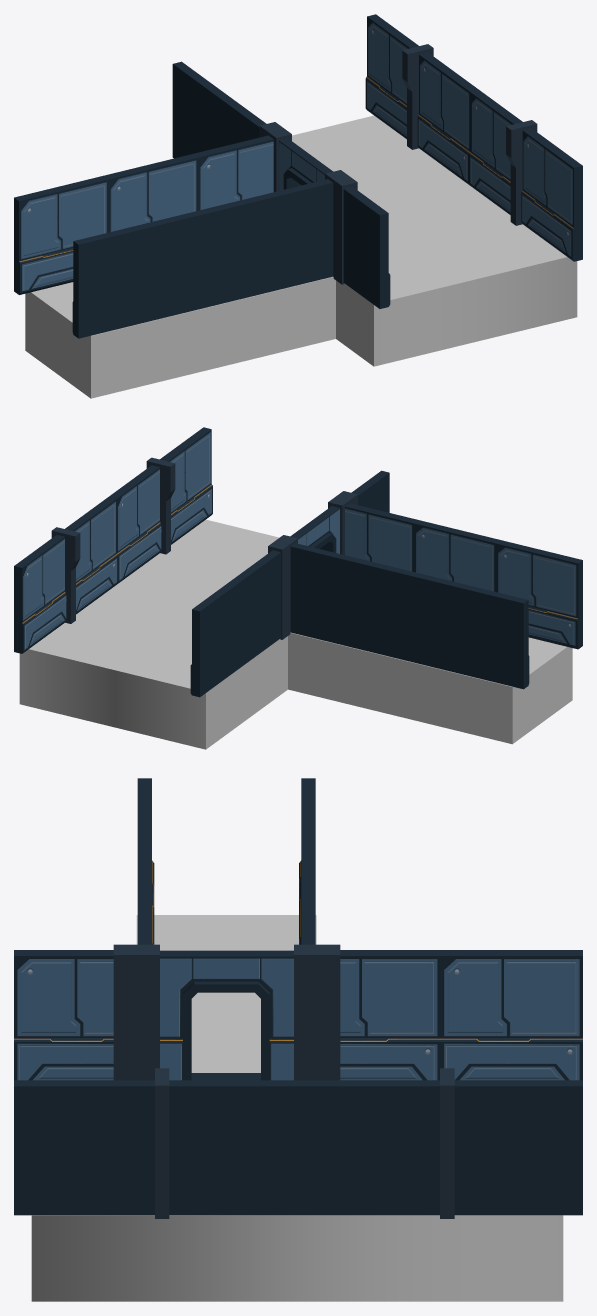
File: lorong3.dae
3 views of the same model, one above another, from view 1: azimuth 30°, elevation 25°; view 2: azimuth 150°, elevation 25°; view 3: azimuth 270°, elevation 25° (orthographic). The views are drawn at different scales.
Parts seen in each view (by area): view 1: Cube.199, Cube.014, Cube.028, Cube.013, Cube.037, Cube.038, Cube.189, Cube.012, Cube.107, Cube.108; view 2: Cube.199, Cube.013, Cube.028, Cube.014, Cube.037, Cube.189, Cube.012, Cube.108, Cube.038, Cube.107; view 3: Cube.028, Cube.199, Cube.037, Cube.038, Cube.012, Cube.108, Cube.107, Cube.189, Cube.014, Cube.013.
Boxes of the visible parts, box(x1,y1,x2,y2) form: Cube.199: box(25, 115, 577, 398); Cube.014: box(72, 179, 333, 338); Cube.028: box(365, 14, 582, 261); Cube.013: box(14, 135, 273, 294); Cube.037: box(172, 61, 266, 158); Cube.038: box(343, 186, 390, 308); Cube.189: box(402, 44, 537, 225); Cube.012: box(279, 138, 332, 190); Cube.107: box(325, 170, 357, 284); Cube.108: box(259, 122, 291, 191); Cube.199: box(19, 519, 572, 749); Cube.013: box(290, 543, 529, 689); Cube.028: box(14, 427, 212, 653); Cube.014: box(345, 503, 582, 649); Cube.037: box(190, 550, 280, 697); Cube.189: box(51, 457, 175, 623); Cube.012: box(290, 506, 339, 553); Cube.108: box(268, 535, 297, 639); Cube.038: box(351, 470, 389, 512); Cube.107: box(328, 491, 357, 554); Cube.028: box(14, 1080, 582, 1215); Cube.199: box(31, 915, 563, 1301); Cube.037: box(340, 950, 582, 1080); Cube.038: box(14, 950, 113, 1080); Cube.012: box(160, 950, 293, 1080); Cube.108: box(294, 944, 340, 1080); Cube.107: box(113, 944, 159, 1080); Cube.189: box(155, 1068, 454, 1218); Cube.014: box(137, 778, 154, 944); Cube.013: box(299, 778, 315, 944).
Size of the model in its own units: 15.55 by 12 by 5.1.
